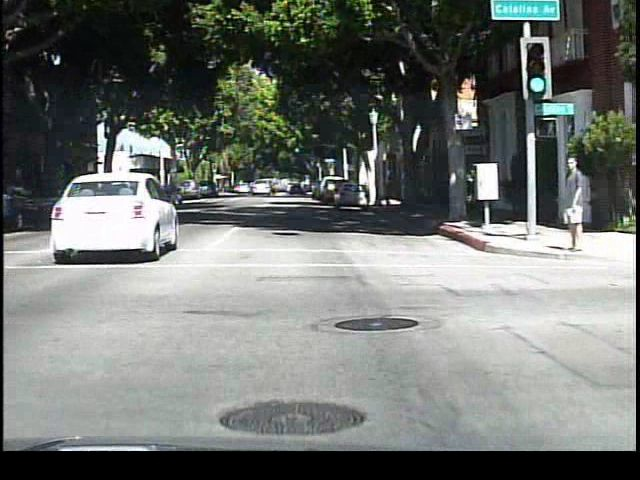person: (553, 151, 585, 257)
